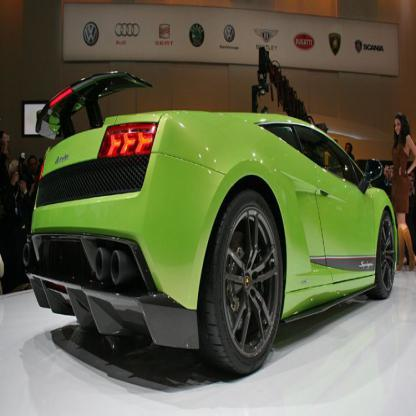Vehicle: (20, 67, 400, 382)
